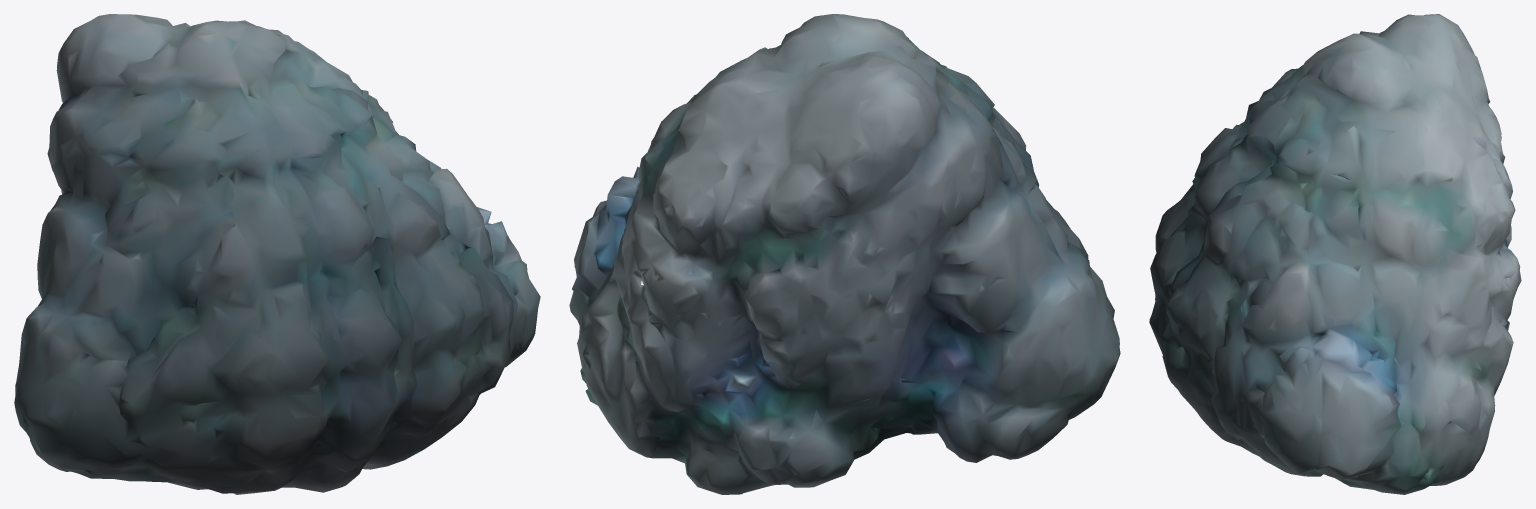
File: media_1787068833589.glb
3 views of the same model, side by side, from view 1: azimuth 30°, elevation 25°; view 2: azimuth 150°, elevation 25°; view 3: azimuth 270°, elevation 25° (orthographic). The views are drawn at different scales.
Size of the model in its own units: 1.08 by 0.885 by 0.779.
